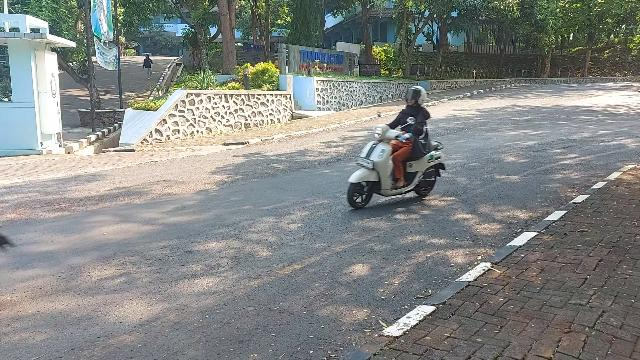helm: (406, 87, 427, 107)
motor: (349, 112, 447, 211)
